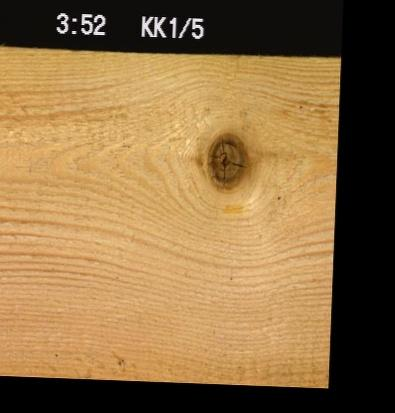sound_knot: (203, 130, 248, 192)
